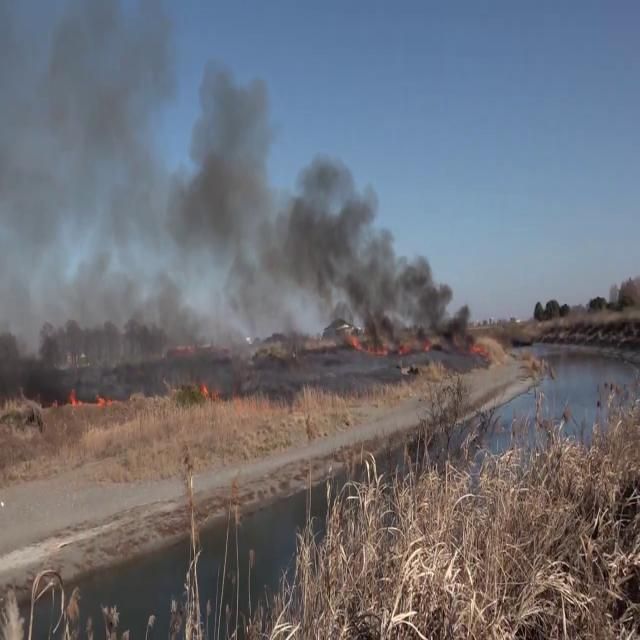Smoke: (165, 56, 470, 364), (0, 11, 204, 384)
